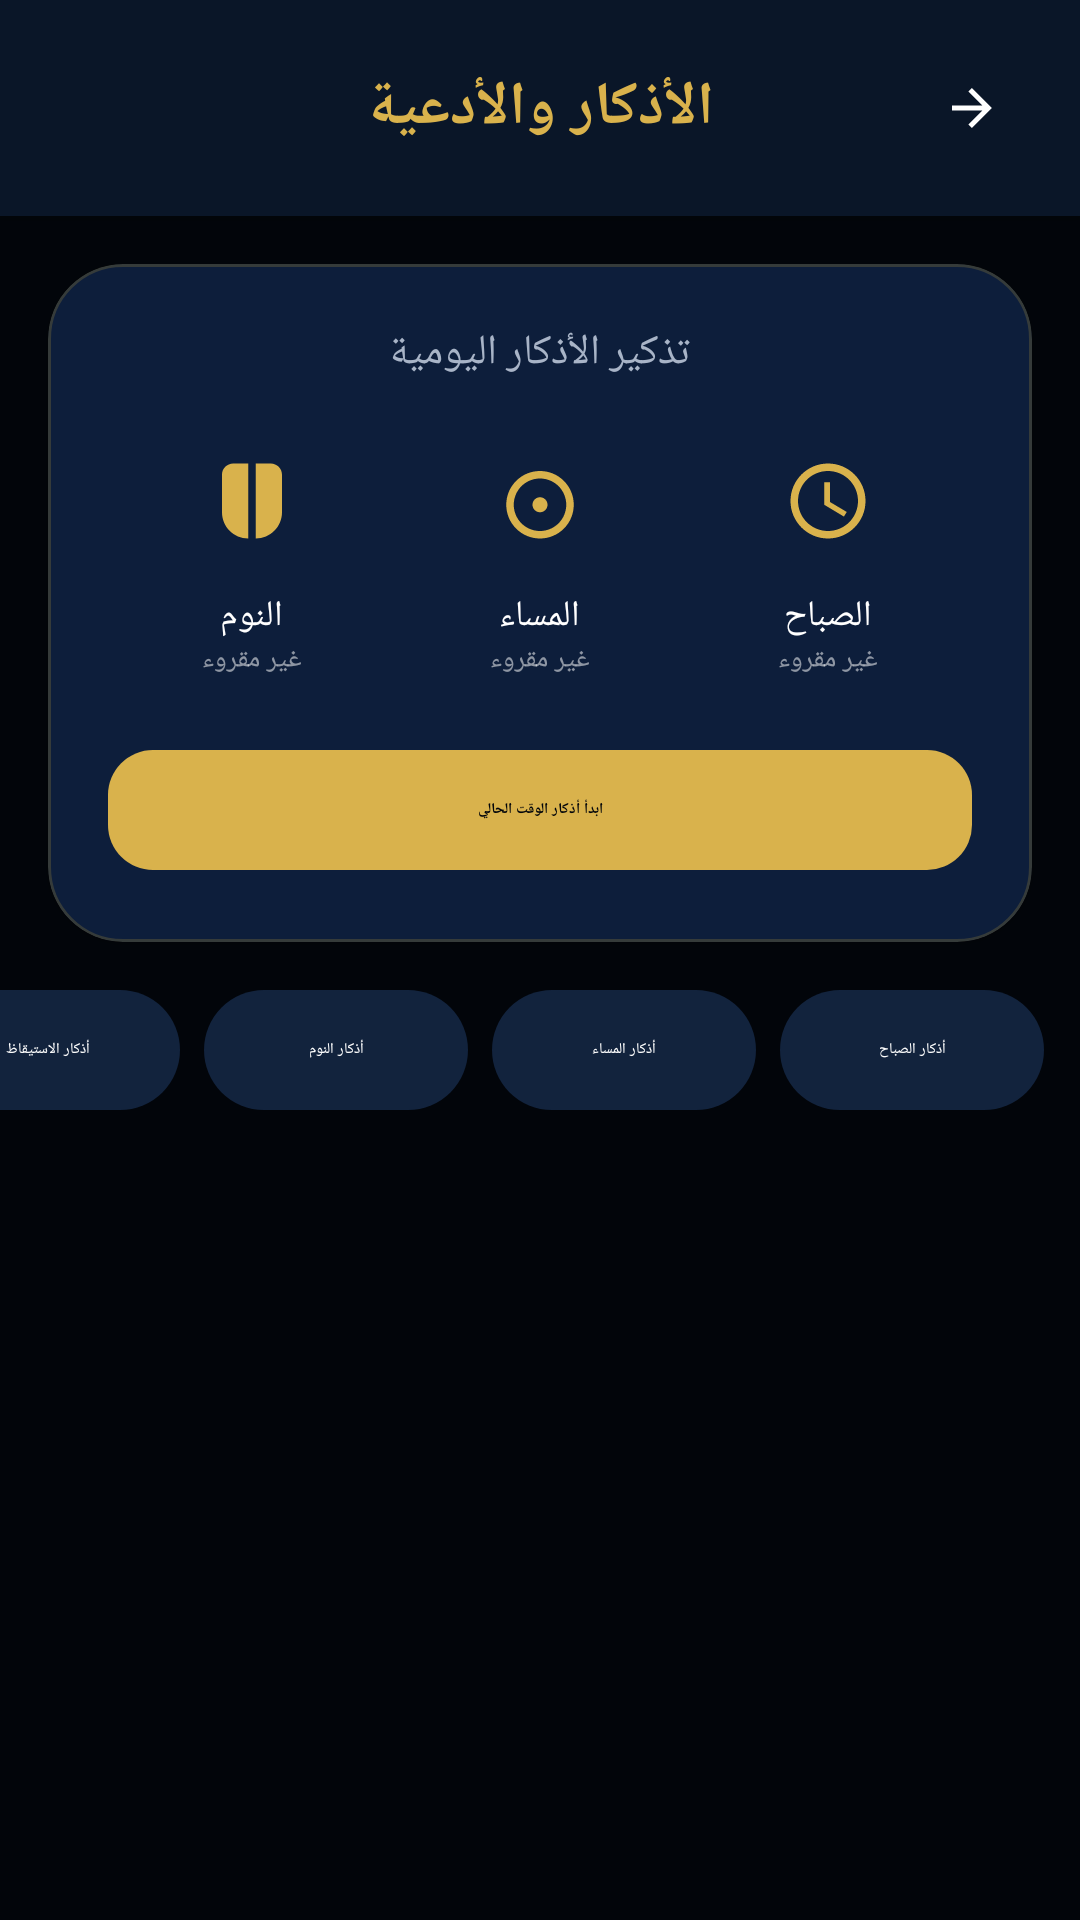

Point at icon controls on the screen. Image size 1080px×1920px, points as point (x, y).
clock: point (828, 501)
